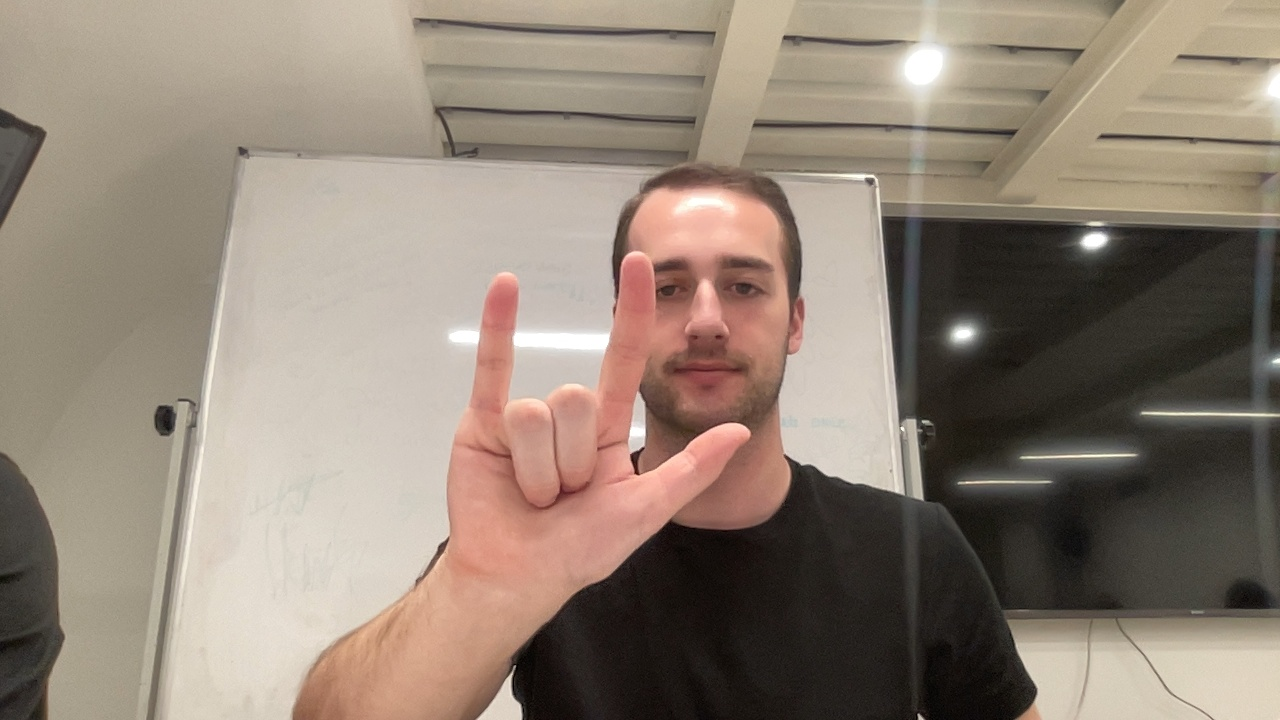I Love You: (445, 248, 756, 637)
